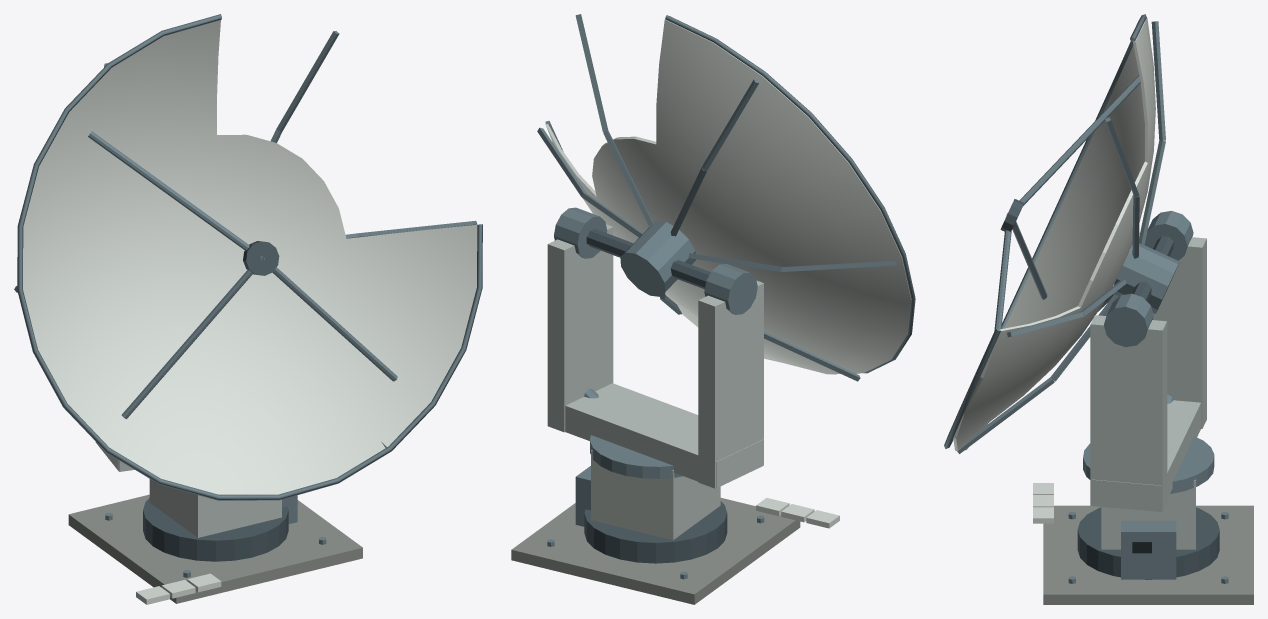
The model's file is skyward_low_d2.glb.
The picture shows the model from 3 angles, left to right: view 1: azimuth 30°, elevation 25°; view 2: azimuth 150°, elevation 25°; view 3: azimuth 270°, elevation 25°; orthographic projection. The views are drawn at different scales.
Visible parts, largest first — view 1: REFLECTOR_SURFACE.002, Geometry_ELEVATION.002_Structural frame / blue steel, Concrete octagonal pad.002, Foundation bearing.002, Pedestal.002, Geometry_ROOT.002_Reflector / warm ceramic, Geometry_ELEVATION.002_Edge metal / graphite; view 2: REFLECTOR_SURFACE.002, Geometry_AZIMUTH.002_Ceramic armor / limestone, Geometry_ELEVATION.002_Structural frame / blue steel, Concrete octagonal pad.002, Pedestal.002, Geometry_AZIMUTH.002_Structural frame / blue steel, Foundation bearing.002, Geometry_ELEVATION.002_Edge metal / graphite, Geometry_ROOT.002_Reflector / warm ceramic, Geometry_ROOT.002_Structural frame / blue steel; view 3: REFLECTOR_SURFACE.002, Geometry_AZIMUTH.002_Ceramic armor / limestone, Geometry_ELEVATION.002_Structural frame / blue steel, Concrete octagonal pad.002, Geometry_AZIMUTH.002_Structural frame / blue steel, Foundation bearing.002, Geometry_ROOT.002_Structural frame / blue steel, Pedestal.002, Geometry_ELEVATION.002_Edge metal / graphite, Geometry_ROOT.002_Reflector / warm ceramic.
Boxes of the visible parts, x1,y1,x2,y2 form: REFLECTOR_SURFACE.002: (23, 20, 477, 494); Geometry_ELEVATION.002_Structural frame / blue steel: (14, 14, 482, 500); Concrete octagonal pad.002: (68, 494, 362, 603); Foundation bearing.002: (143, 498, 288, 561); Pedestal.002: (149, 479, 281, 537); Geometry_ROOT.002_Reflector / warm ceramic: (136, 573, 221, 604); Geometry_ELEVATION.002_Edge metal / graphite: (243, 241, 279, 275); REFLECTOR_SURFACE.002: (545, 19, 911, 374); Geometry_AZIMUTH.002_Ceramic armor / limestone: (547, 224, 763, 488); Geometry_ELEVATION.002_Structural frame / blue steel: (537, 14, 915, 381); Concrete octagonal pad.002: (511, 498, 800, 604); Pedestal.002: (591, 450, 720, 539); Geometry_AZIMUTH.002_Structural frame / blue steel: (554, 207, 757, 478); Foundation bearing.002: (584, 501, 727, 563); Geometry_ELEVATION.002_Edge metal / graphite: (586, 229, 710, 289); Geometry_ROOT.002_Reflector / warm ceramic: (756, 497, 839, 528); Geometry_ROOT.002_Structural frame / blue steel: (547, 466, 764, 579); REFLECTOR_SURFACE.002: (953, 18, 1155, 450); Geometry_AZIMUTH.002_Ceramic armor / limestone: (1090, 232, 1206, 511); Geometry_ELEVATION.002_Structural frame / blue steel: (944, 14, 1179, 453); Concrete octagonal pad.002: (1043, 505, 1253, 604); Geometry_AZIMUTH.002_Structural frame / blue steel: (1083, 210, 1214, 493); Foundation bearing.002: (1077, 507, 1219, 579); Geometry_ROOT.002_Structural frame / blue steel: (1068, 511, 1228, 583); Pedestal.002: (1101, 479, 1195, 549); Geometry_ELEVATION.002_Edge metal / graphite: (1000, 199, 1173, 301); Geometry_ROOT.002_Reflector / warm ceramic: (1033, 483, 1053, 523).
Bounding box in the file's own units: 17.91 × 21.86 × 11.78.
